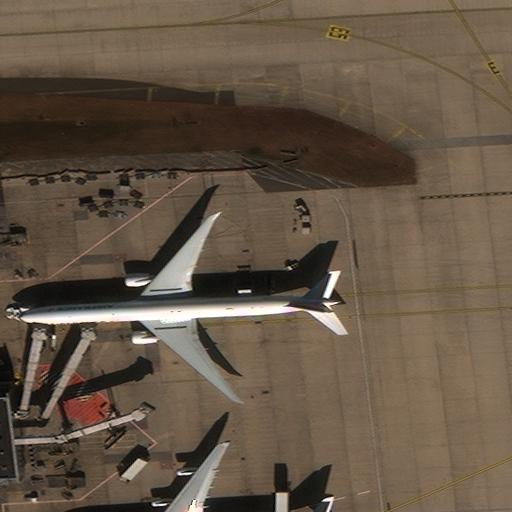Large Civil Transport: (14, 214, 339, 401), (100, 443, 316, 511)
